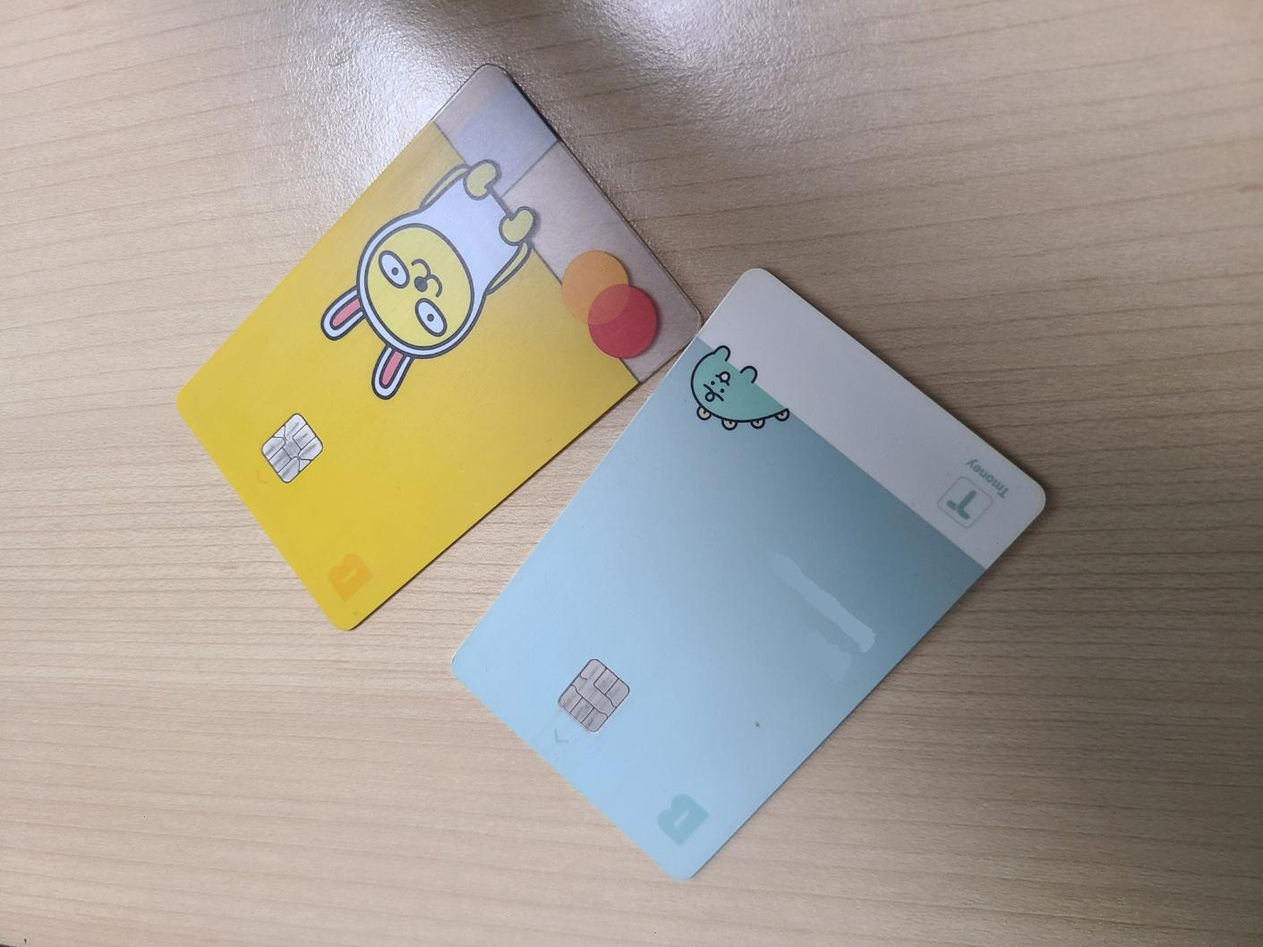Credit_card: (452, 269, 1044, 878), (178, 65, 698, 628)
